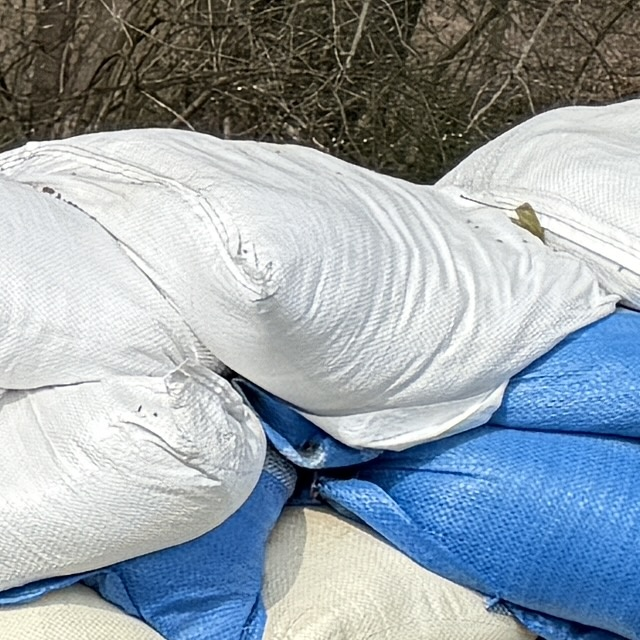sandbag: (316, 427, 640, 640), (0, 360, 265, 590), (0, 452, 295, 640), (438, 99, 640, 310), (264, 508, 535, 640), (492, 311, 640, 439)
